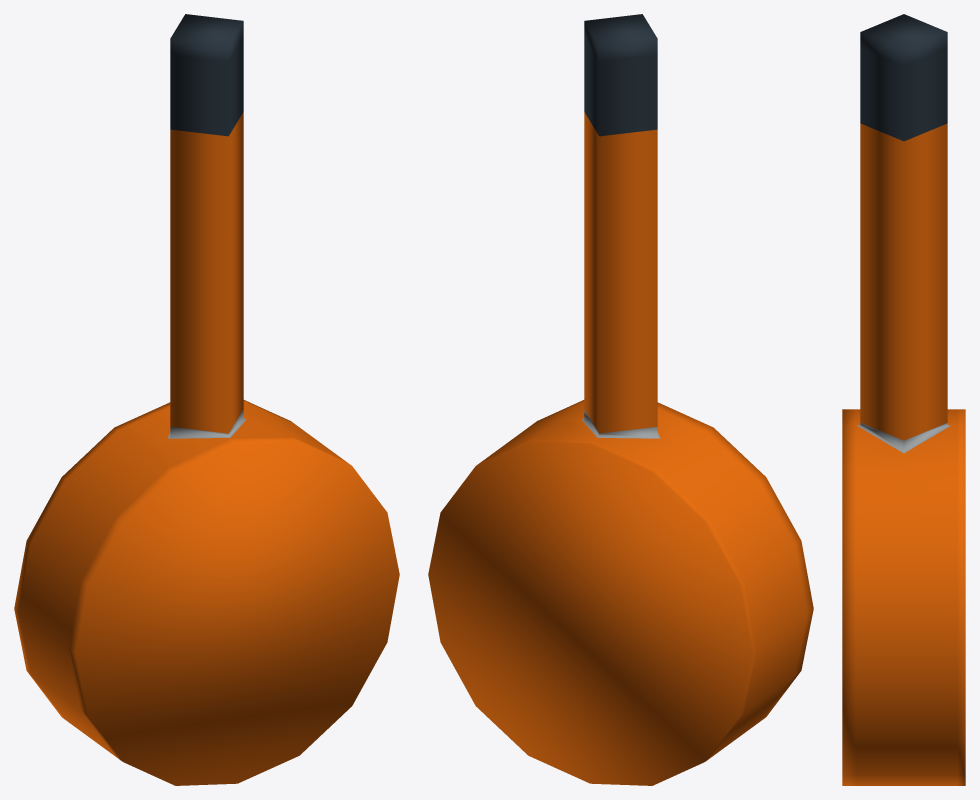
The model's file is PalancaAnimada.fbx.
3 views of the same model, side by side, from view 1: azimuth 30°, elevation 25°; view 2: azimuth 150°, elevation 25°; view 3: azimuth 270°, elevation 25° (orthographic).
Parts seen in each view (by area): view 1: Palanca; view 2: Palanca; view 3: Palanca.
Part boxes in pixels (bbox=[...]): Palanca: bbox=[14, 14, 399, 785]; Palanca: bbox=[428, 14, 813, 785]; Palanca: bbox=[842, 14, 965, 785].
Size of the model in its own units: 124 by 267 by 40.5.
